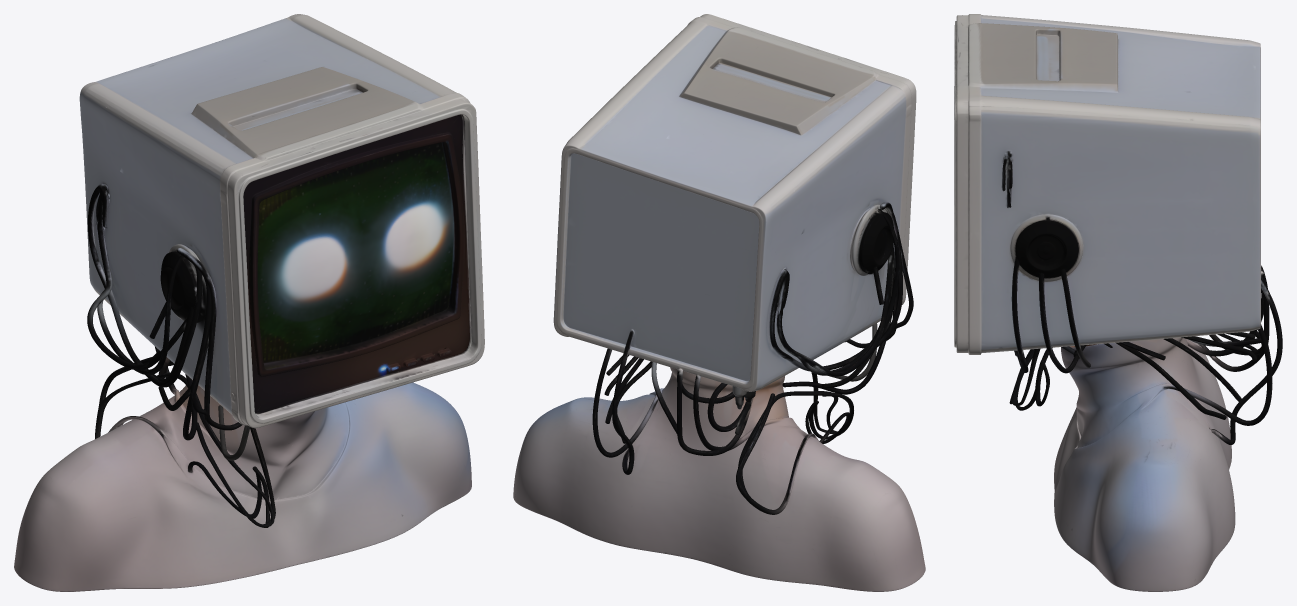
The model's file is robot.glb.
3 renders of one model, left to right at view 1: azimuth 30°, elevation 25°; view 2: azimuth 150°, elevation 25°; view 3: azimuth 270°, elevation 25°, orthographic. The views are drawn at different scales.
Parts seen in each view (by area): view 1: material; view 2: material; view 3: material.
Boxes of the visible parts, x1,y1,x2,y2 form: material: [14, 14, 484, 591]; material: [513, 14, 925, 591]; material: [954, 14, 1282, 591].
Bounding box in the file's own units: 0.8307 × 0.8551 × 0.571.
1 material, 1 textured.
